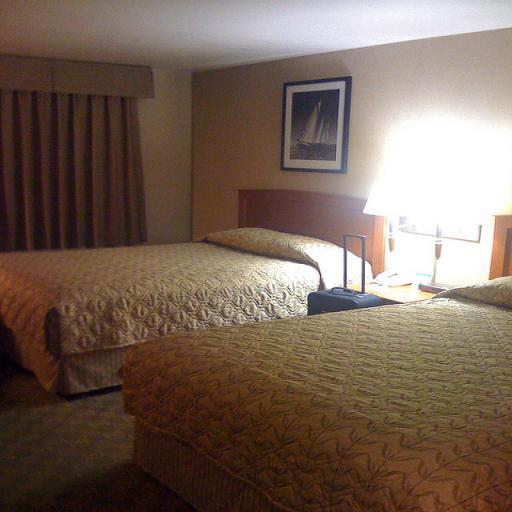bed: (0, 168, 441, 352)
